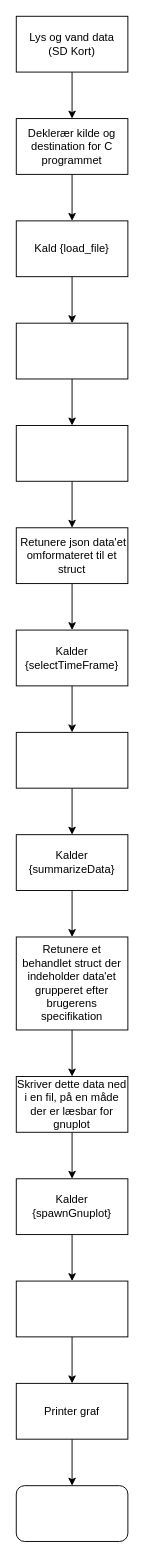
Some shapes in this 144 by 1558 pixel diagram are drawn without their labels. Here are the shapes that lost their labels. From the top down, the box of each, then its label:
(15, 322, 128, 379): Retunere indholdet af data filens indhold
(15, 425, 128, 481): Kalder {ParseJson}
(15, 731, 128, 788): Retunere brugerens ønskede tidsramme data projekteres efter
(15, 1280, 128, 1337): Finder den givede fil og kører det passende sæt gnuplot indstillinger
(15, 1485, 128, 1541): Retunerer 0
